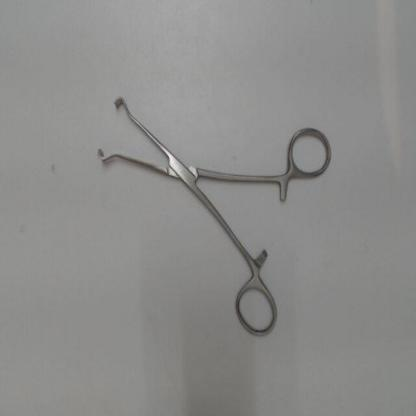Babcock Tissue Forceps: (93, 87, 336, 342)
